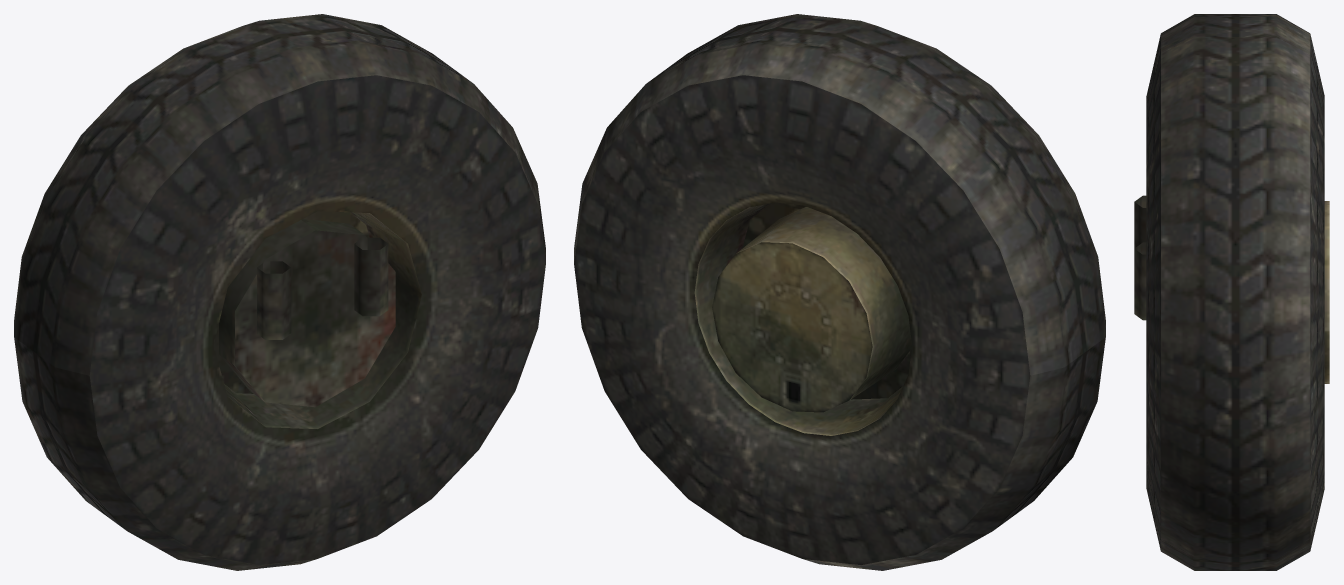
File: btr60pb_wheel.obj
3 renders of one model, left to right at view 1: azimuth 30°, elevation 25°; view 2: azimuth 150°, elevation 25°; view 3: azimuth 270°, elevation 25°, orthographic.
Parts seen in each view (by area): view 1: Interior1Mtl_Obj; view 2: Interior1Mtl_Obj; view 3: Interior1Mtl_Obj.
Boxes of the visible parts, box(x1,y1,x2,y2) form: Interior1Mtl_Obj: box(14, 14, 545, 570); Interior1Mtl_Obj: box(574, 14, 1105, 570); Interior1Mtl_Obj: box(1134, 14, 1329, 570).
Size of the model in its own units: 6.41 by 6.41 by 2.24.
Materials: 1 (1 with a texture image).
